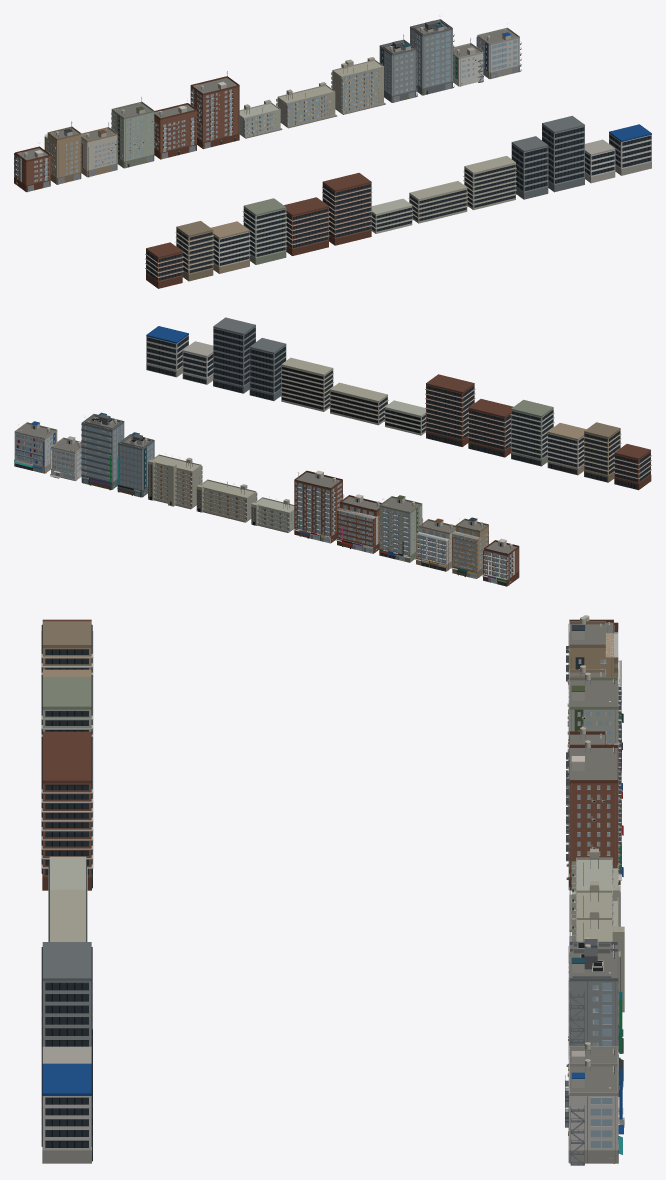
File: town.glb
3 views of the same model, one above another, from view 1: azimuth 30°, elevation 25°; view 2: azimuth 150°, elevation 25°; view 3: azimuth 270°, elevation 25° (orthographic). The views are drawn at different scales.
Parts seen in each view (by area): view 1: town_fos24b_body, town_fos24b_lo_mesh, town_off20_body, town_off20_lo_mesh, town_danchi28_body, town_fos20b_body, town_fos20b_lo_mesh, town_danchi28_lo_mesh, town_fos24a_lo_mesh, town_fos24a_body, town_off16_body, town_off16_lo_mesh (+14 smaller); view 2: town_fos24b_body, town_fos24b_lo_mesh, town_off20_body, town_off20_lo_mesh, town_fos20b_body, town_danchi28_body, town_fos20b_lo_mesh, town_danchi28_lo_mesh, town_fos24a_body, town_fos24a_lo_mesh, town_off16_lo_mesh, town_danchi32_body (+14 smaller); view 3: town_fos24b_body, town_fos24b_lo_mesh, town_juku20_body, town_off20_body, town_juku20_lo_mesh, town_off20_lo_mesh, town_fos20b_body, town_fos20b_lo_mesh, town_fos16b_lo_mesh, town_fos16b_body, town_danchi24_body, town_danchi28_body (+6 smaller).
Part boxes in pixels (<box>): town_fos24b_body: <box>190,71,239,149</box>; town_fos24b_lo_mesh: <box>322,173,372,245</box>; town_off20_body: <box>410,19,454,95</box>; town_off20_lo_mesh: <box>542,115,584,192</box>; town_danchi28_body: <box>331,57,385,114</box>; town_fos20b_body: <box>111,97,154,168</box>; town_fos20b_lo_mesh: <box>242,198,287,264</box>; town_danchi28_lo_mesh: <box>463,156,516,210</box>; town_fos24a_lo_mesh: <box>284,197,329,255</box>; town_fos24a_body: <box>154,100,196,159</box>; town_off16_body: <box>379,34,417,102</box>; town_off16_lo_mesh: <box>511,136,548,199</box>; town_fos24b_body: <box>293,470,342,543</box>; town_fos24b_lo_mesh: <box>425,374,475,446</box>; town_off20_body: <box>81,412,124,490</box>; town_off20_lo_mesh: <box>213,317,255,393</box>; town_fos20b_body: <box>379,495,422,562</box>; town_danchi28_body: <box>148,454,202,509</box>; town_fos20b_lo_mesh: <box>510,399,554,466</box>; town_danchi28_lo_mesh: <box>280,357,333,411</box>; town_fos24a_body: <box>335,494,381,553</box>; town_fos24a_lo_mesh: <box>467,399,513,457</box>; town_off16_lo_mesh: <box>249,338,286,400</box>; town_danchi32_body: <box>196,479,257,522</box>; town_fos24b_body: <box>566,740,623,890</box>; town_fos24b_lo_mesh: <box>41,745,93,890</box>; town_juku20_body: <box>568,1059,623,1165</box>; town_off20_body: <box>566,944,623,1096</box>; town_juku20_lo_mesh: <box>41,1063,92,1163</box>; town_off20_lo_mesh: <box>41,948,92,1095</box>; town_fos20b_body: <box>567,672,622,798</box>; town_fos20b_lo_mesh: <box>41,677,93,742</box>; town_fos16b_lo_mesh: <box>41,621,93,680</box>; town_fos16b_body: <box>567,616,623,725</box>; town_danchi24_body: <box>569,848,620,931</box>; town_danchi28_body: <box>571,908,624,1025</box>.
Bounding box in the file's own units: 326 × 42.12 × 166.
